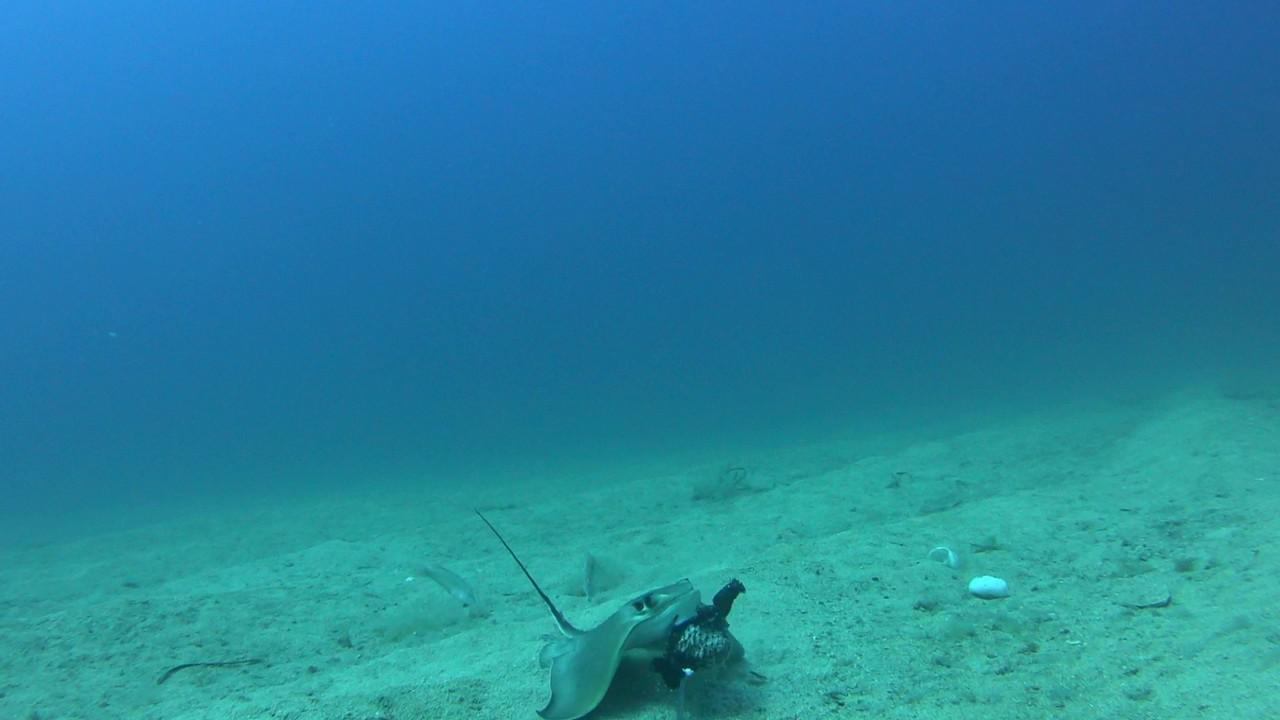myliobatis: (469, 485, 704, 719)
raor: (411, 562, 477, 610)
